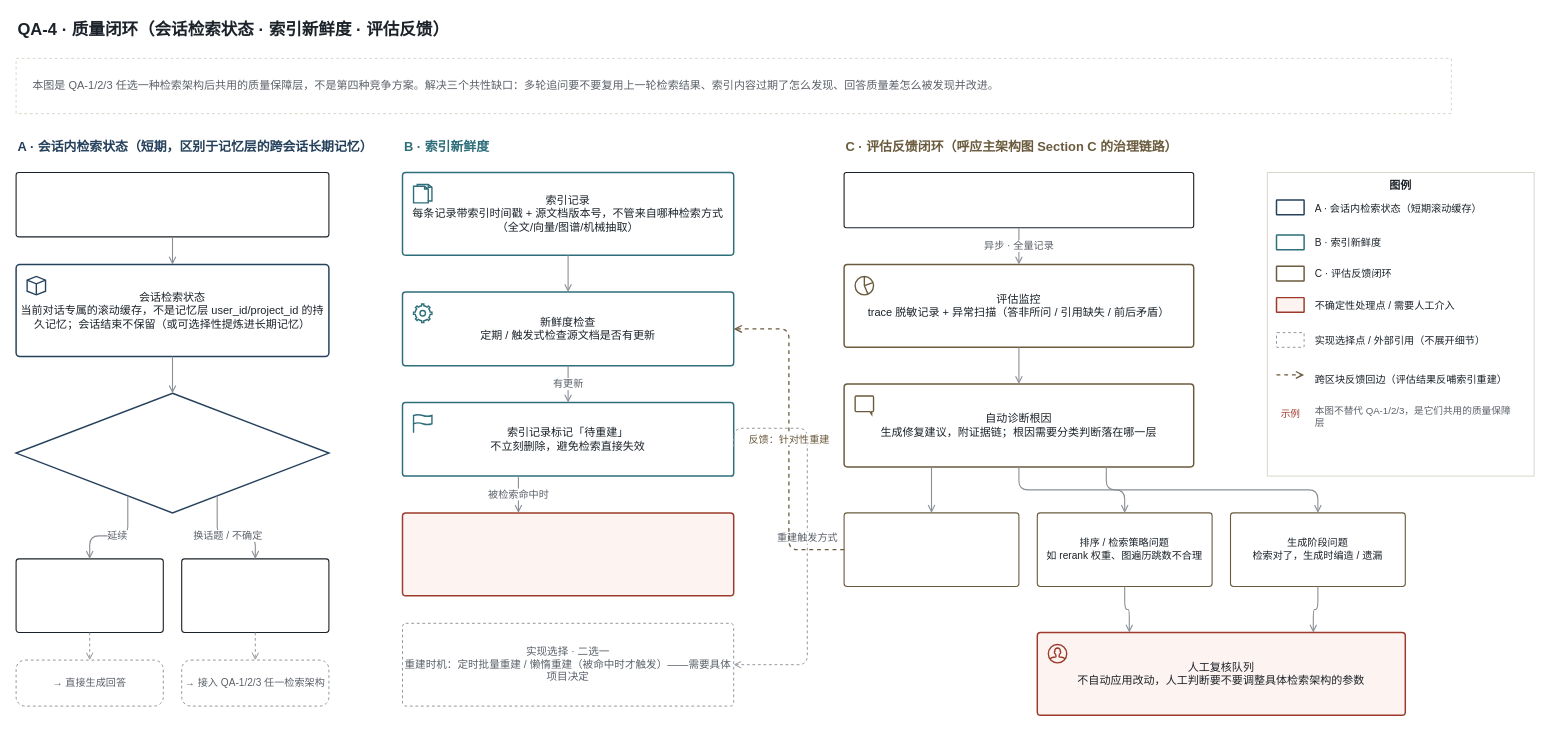
This 1551x731 diagram has some shape labels left out. Here are the shapes that lost their labels. From the top down, the centre of each, then its label:
point (172, 204): 本轮检索结果 本轮命中的具体内容 + 来源检索方式
point (1018, 199): 每轮问答完成
point (172, 452): 下一轮追问 · 话题是否延续？ （比如追问同一个实体/文档）
point (567, 554): 命中待重建内容时 检索命中带「待重建」标记的内容时，回答里附加提示「该内容可能已过期，建议核实」
point (931, 549): 检索 / 索引质量问题 没找对相关内容
point (89, 595): 复用会话检索状态 不重新走全套检索，省时省钱
point (255, 595): 触发全新检索 走选定的检索架构
